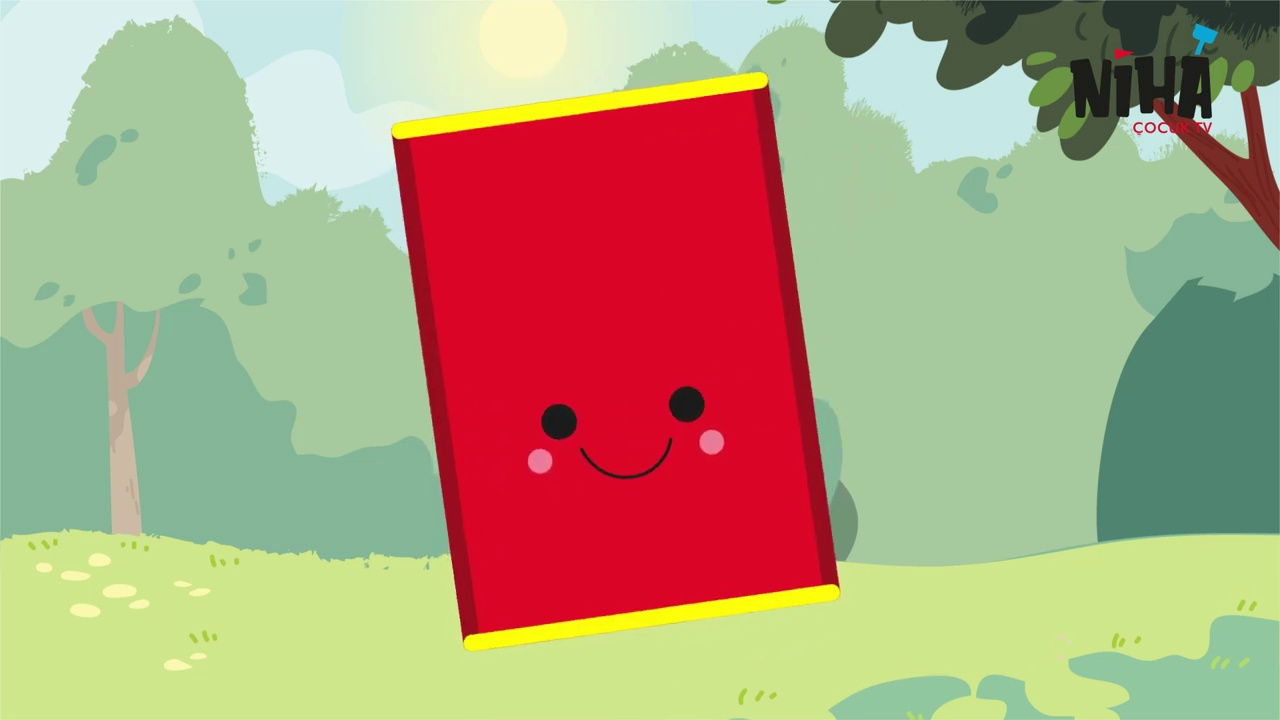dikdortgen: (387, 73, 846, 650)
